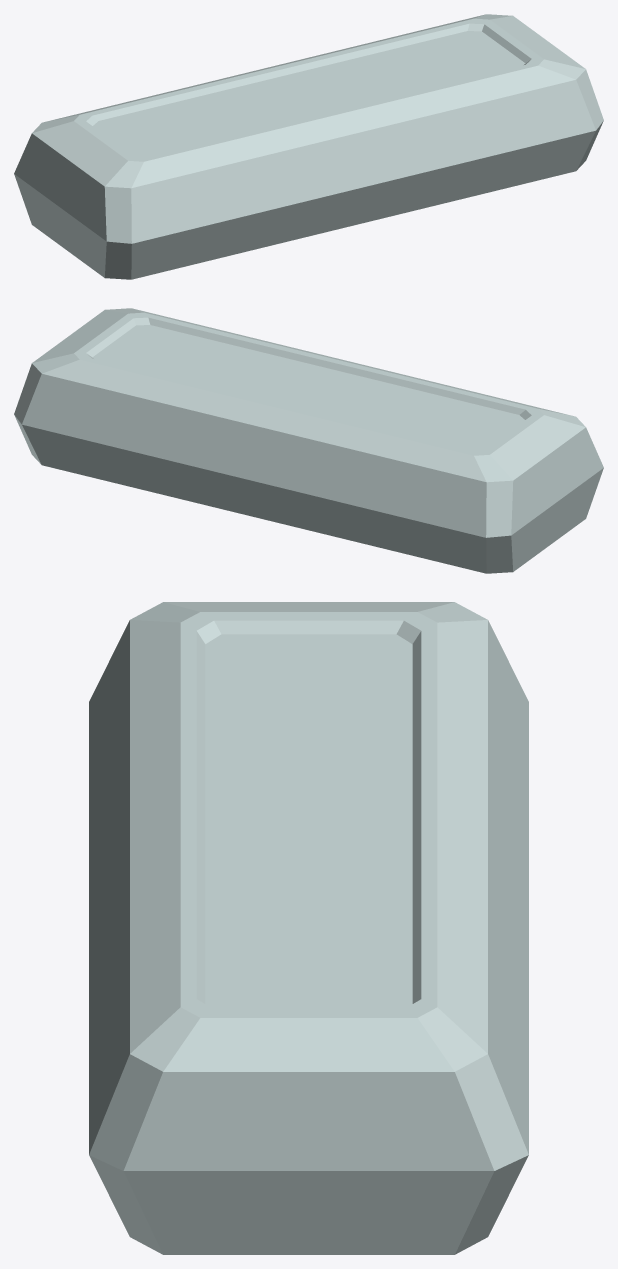
Rendered from SilverIngotC.fbx.
The picture shows the model from 3 angles, top to bottom: view 1: azimuth 30°, elevation 25°; view 2: azimuth 150°, elevation 25°; view 3: azimuth 270°, elevation 25°; orthographic projection. The views are drawn at different scales.
Visible parts, largest first — view 1: SilverIngotC; view 2: SilverIngotC; view 3: SilverIngotC.
Boxes of the visible parts, box(x1,y1,x2,y2) form: SilverIngotC: box(14, 14, 603, 279); SilverIngotC: box(14, 308, 603, 573); SilverIngotC: box(89, 602, 528, 1254).
Size of the model in its own units: 62.93 by 13.73 by 24.11.
